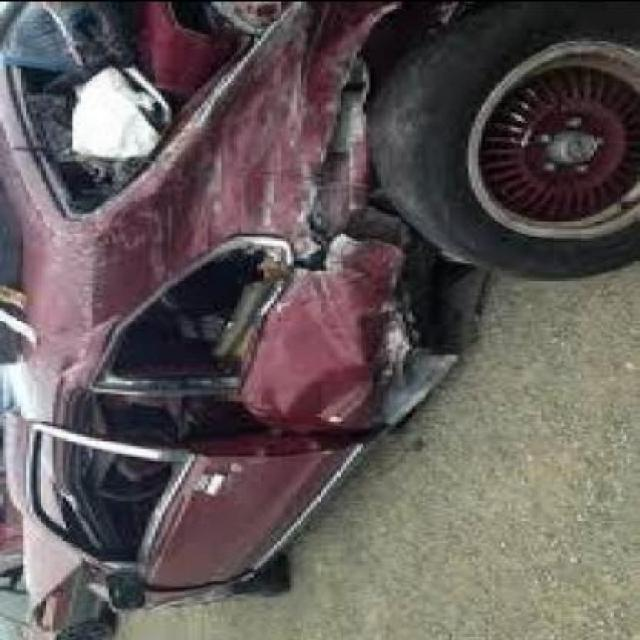damage: (9, 1, 440, 423)
